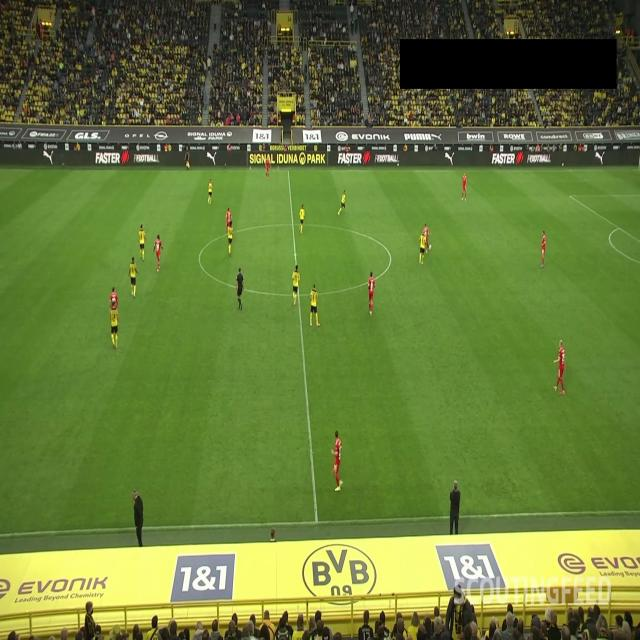ball: (428, 244, 432, 252)
player: (331, 429, 343, 492), (553, 340, 566, 395), (128, 257, 139, 298), (110, 302, 119, 350), (310, 284, 320, 327), (153, 233, 163, 272), (368, 270, 376, 316), (138, 224, 147, 262), (292, 264, 300, 306), (418, 230, 426, 265), (422, 222, 430, 252), (540, 230, 546, 268), (227, 220, 233, 256), (110, 286, 118, 311), (338, 190, 346, 215), (226, 207, 233, 233), (299, 204, 305, 233), (462, 172, 468, 201), (208, 178, 213, 204), (265, 155, 270, 180)
referee: (236, 266, 244, 310), (184, 146, 191, 172)
